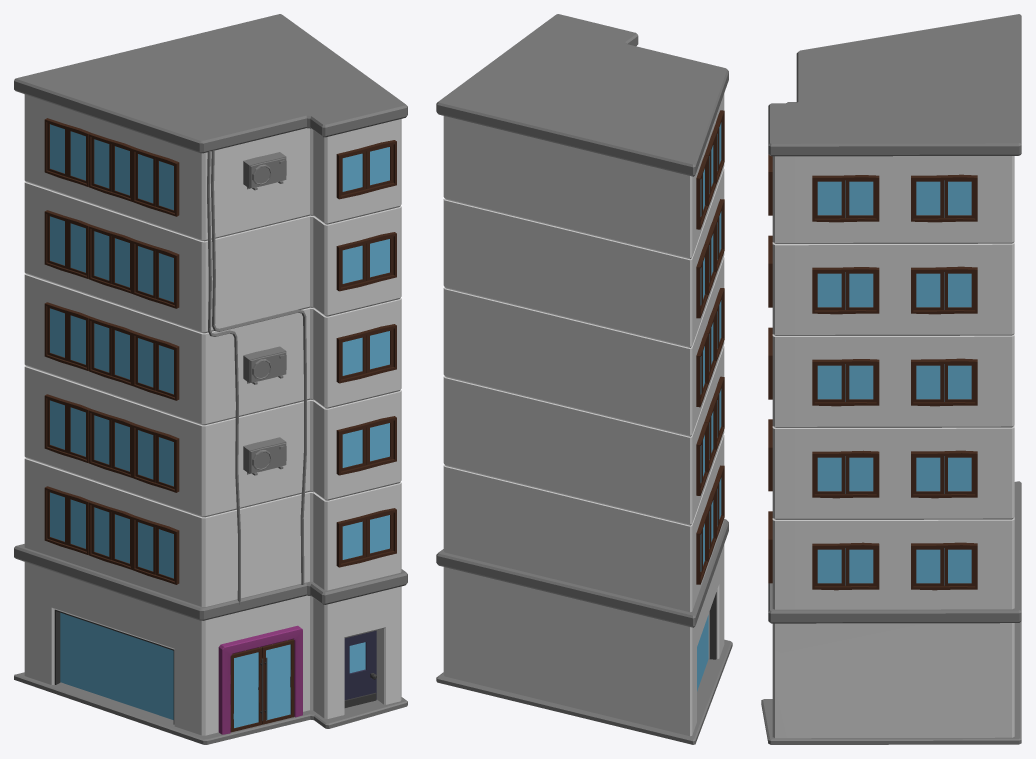
Rendered from SM_building_tall_02.fbx.
The picture shows the model from 3 angles, left to right: view 1: azimuth 30°, elevation 25°; view 2: azimuth 150°, elevation 25°; view 3: azimuth 270°, elevation 25°; orthographic projection. The views are drawn at different scales.
Visible parts, largest first — view 1: Box126; view 2: Box126; view 3: Box126.
Boxes of the visible parts, x1,y1,x2,y2 form: Box126: (14, 14, 407, 744); Box126: (436, 14, 732, 744); Box126: (761, 14, 1021, 744).
Bounding box in the file's own units: 326 × 695 × 273.
